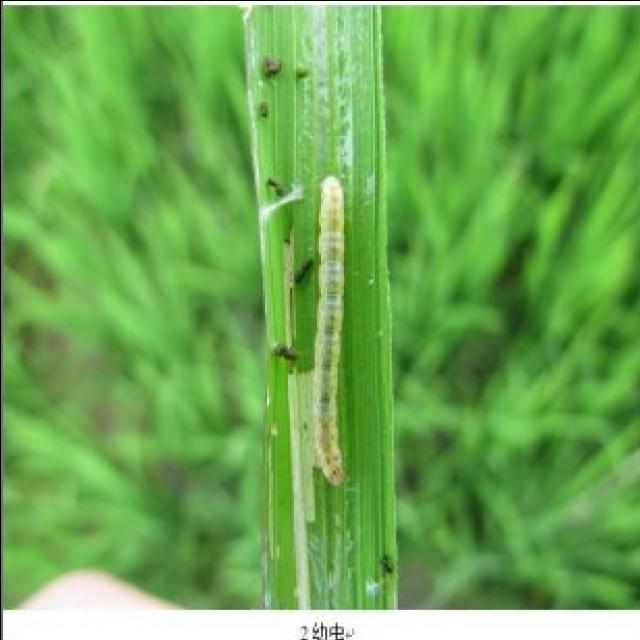rice leaf roller: (268, 175, 343, 482), (260, 175, 301, 222), (260, 56, 278, 75), (256, 98, 264, 116)
